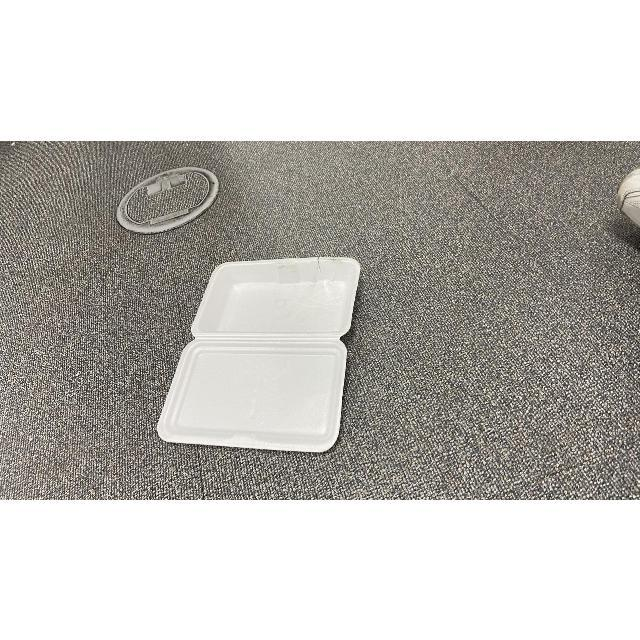Plastico descartable: (157, 258, 361, 455)
